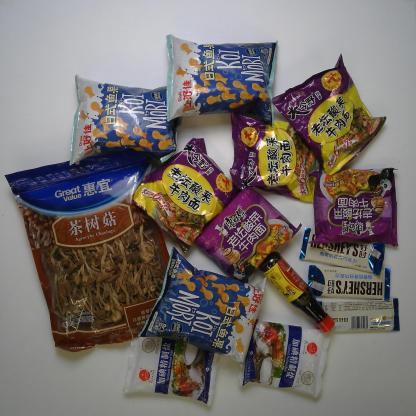Chocolate: (298, 223, 386, 278), (316, 290, 403, 334), (294, 264, 392, 301)
Dried Food: (6, 134, 194, 355)
Instant Noodles: (266, 57, 385, 174), (134, 138, 235, 250), (193, 184, 294, 281), (228, 103, 323, 203), (304, 161, 402, 252)
Puffed Food: (135, 247, 268, 363), (164, 30, 280, 127), (70, 74, 183, 164)
Seasoner: (122, 322, 225, 407), (240, 316, 331, 396), (258, 249, 336, 332)
